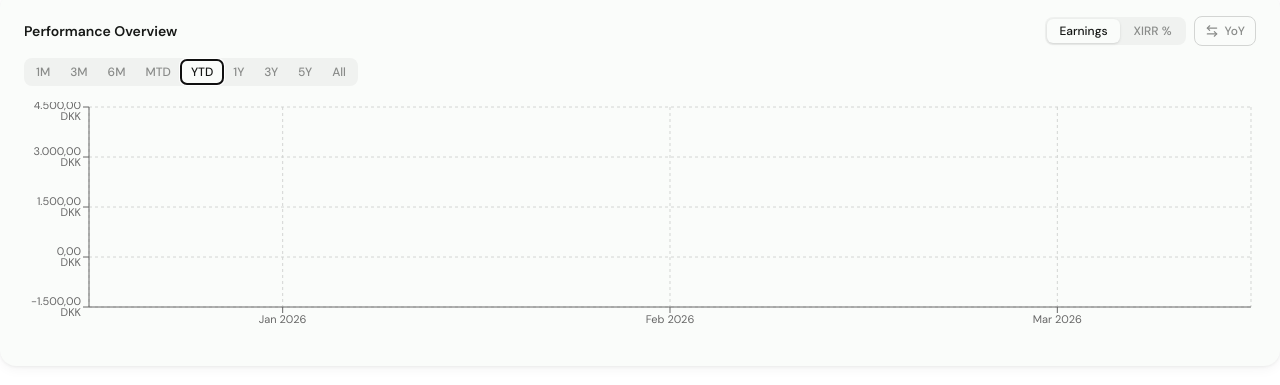
PlatformDetailPerfChart › empty state › shows "No data available" when in XIRR mode with empty xirr data
Step 1. Click the tab "XIRR %" → x=1153, y=31, box [1122, 19, 1184, 43]
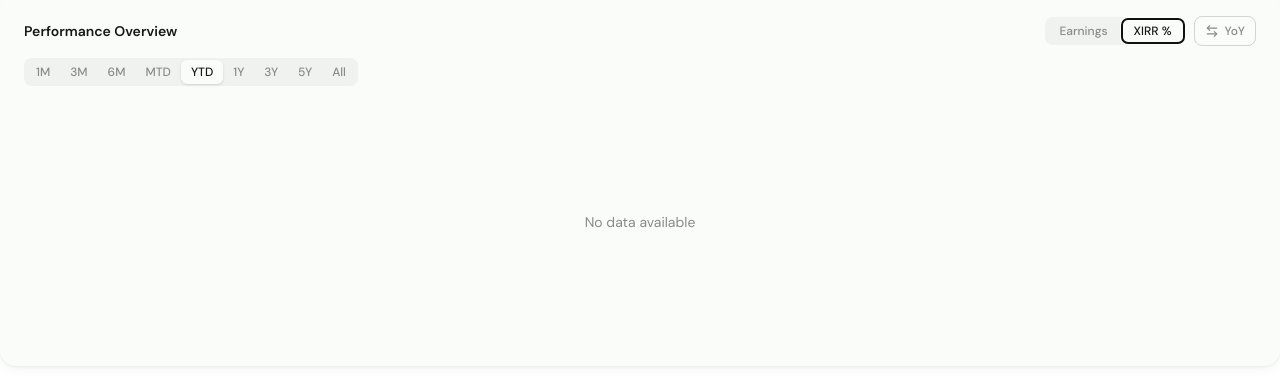
Now the text "No data available" is shown, box [585, 213, 695, 231]
